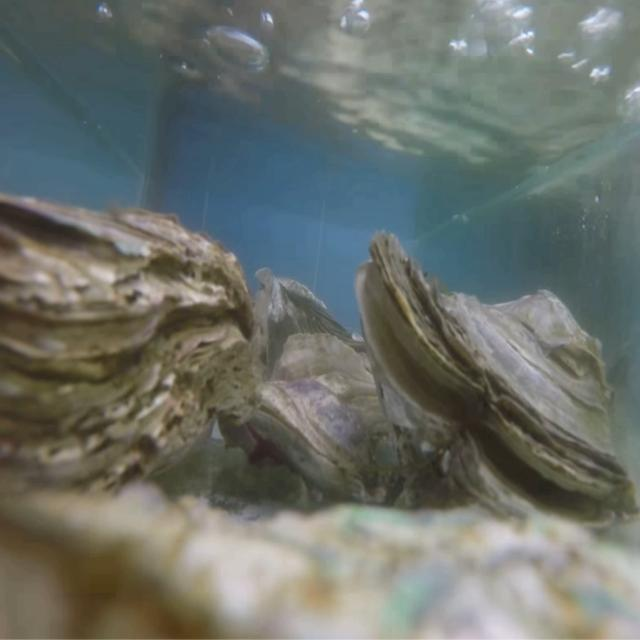Oyster-Closed: (0, 194, 254, 523), (249, 334, 414, 516)
Oyster-Indeterminate: (0, 479, 640, 640)
Oyster-Open: (354, 231, 640, 546)
